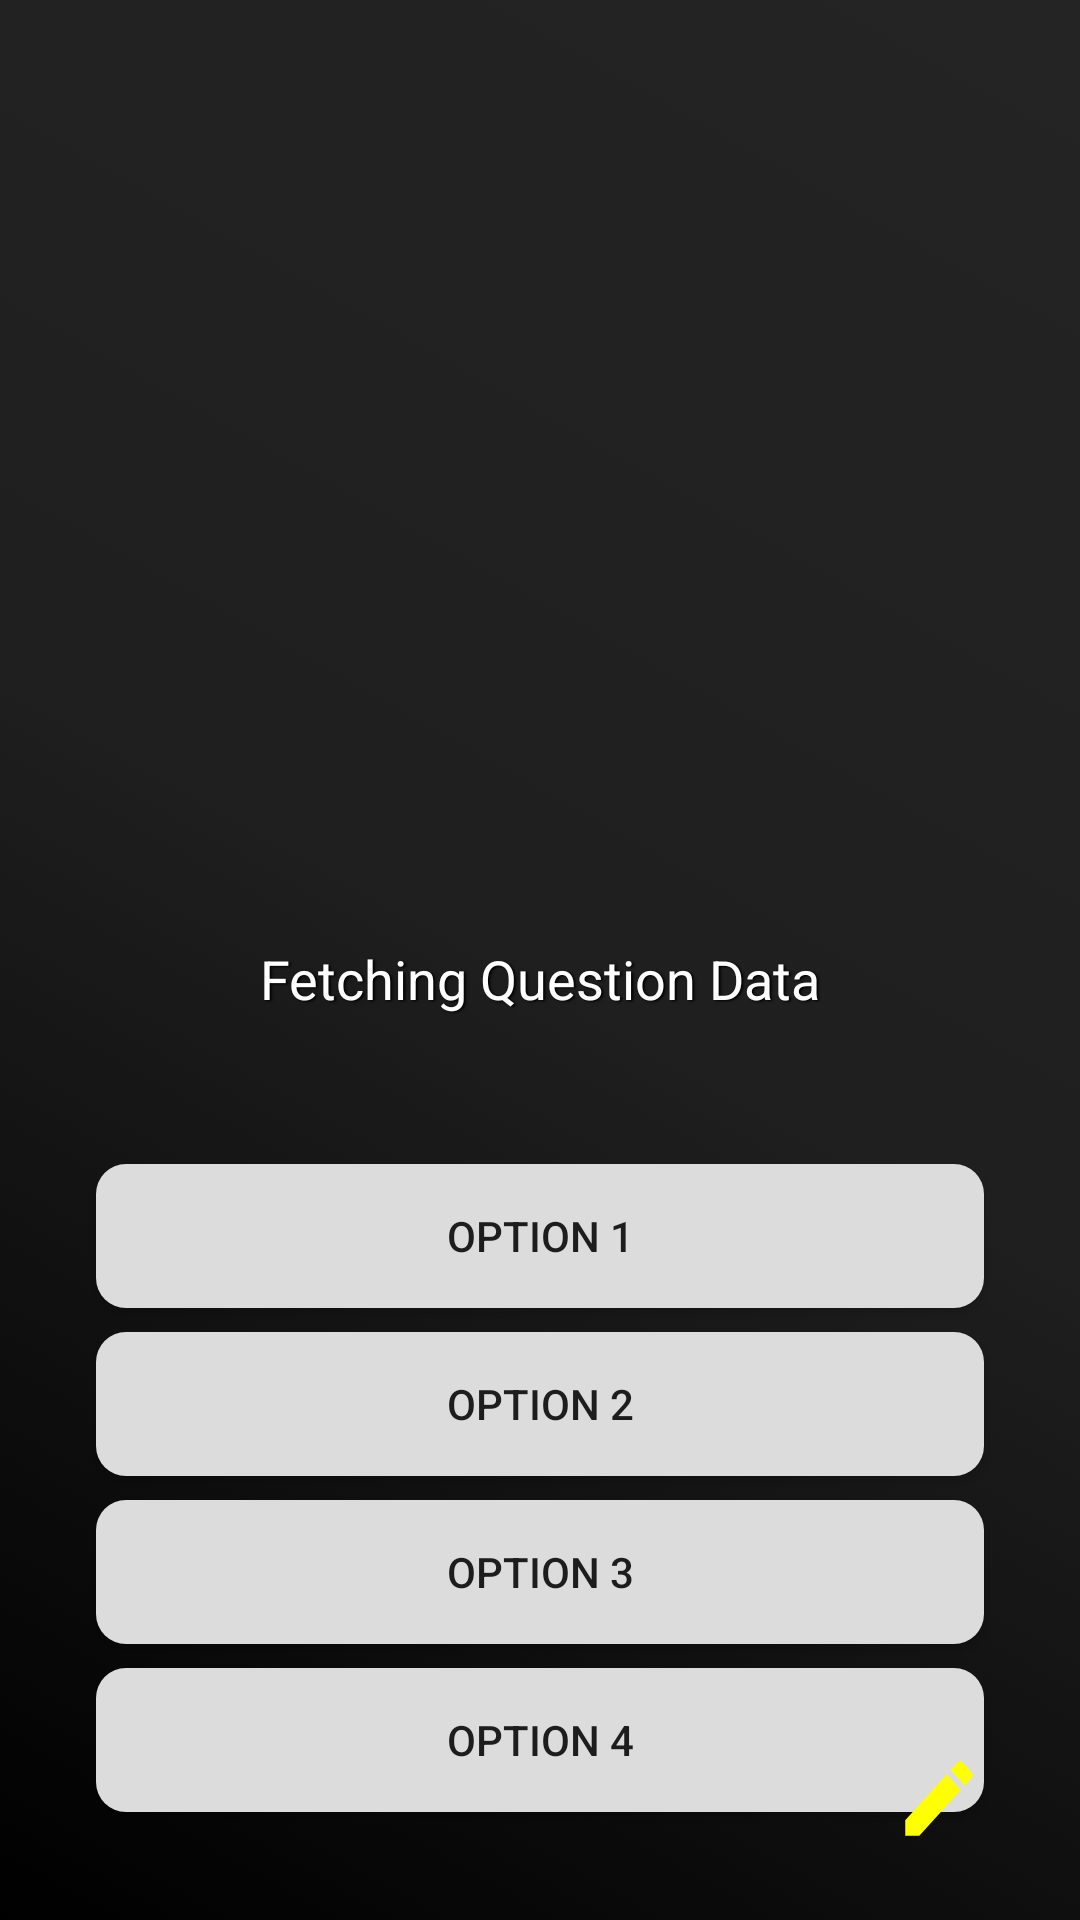

Where to tap for icons on this 1080w x 1920h app screen, as [x,y]:
edit: [939,1798]
